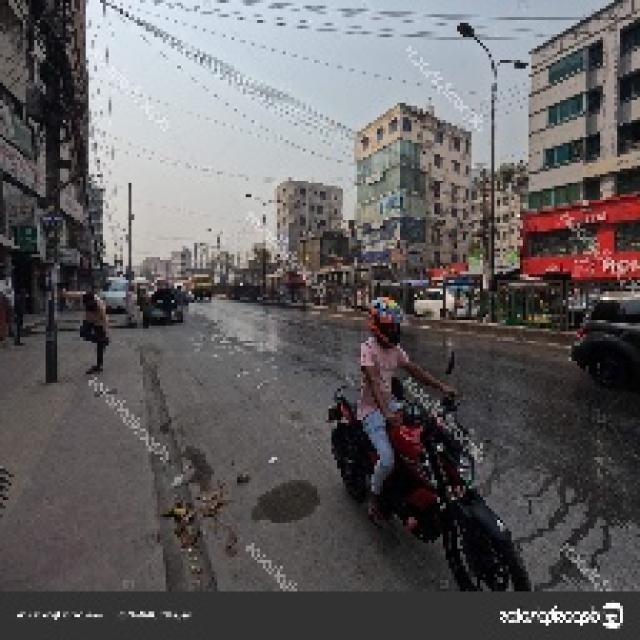bike: (331, 341, 537, 583)
car: (91, 274, 133, 312)
